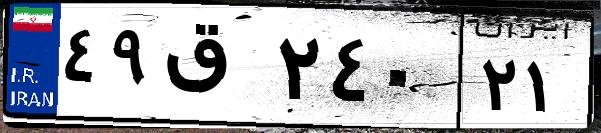0: (385, 28, 445, 110)
1: (525, 38, 570, 115)
2: (270, 28, 330, 110), (475, 38, 525, 113)
4: (330, 28, 385, 110), (57, 26, 110, 100)
9: (110, 28, 158, 98)
ق: (158, 20, 270, 120)
